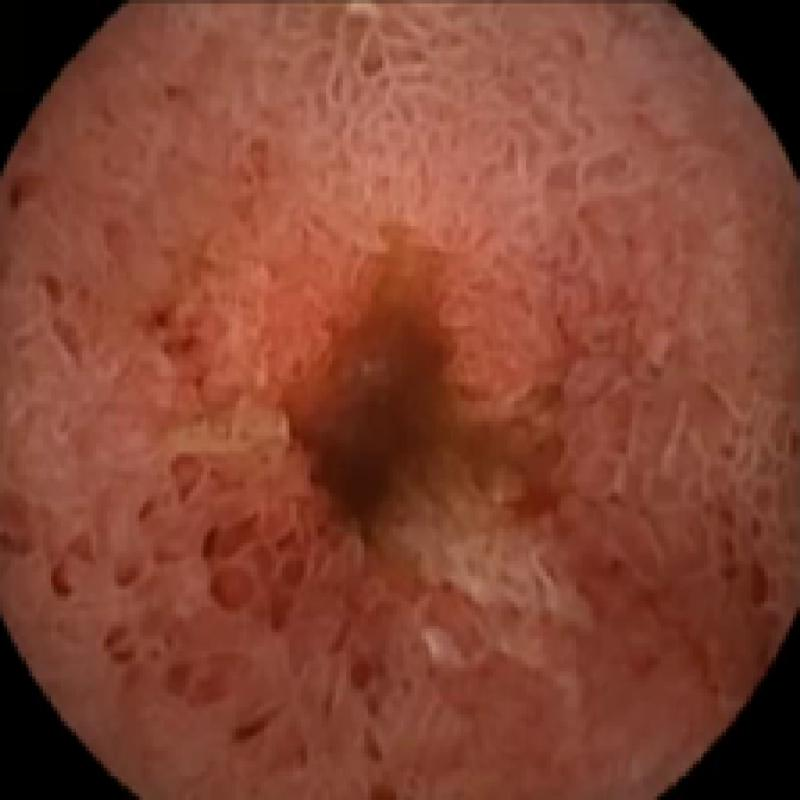bleeding: (96, 228, 793, 793)
